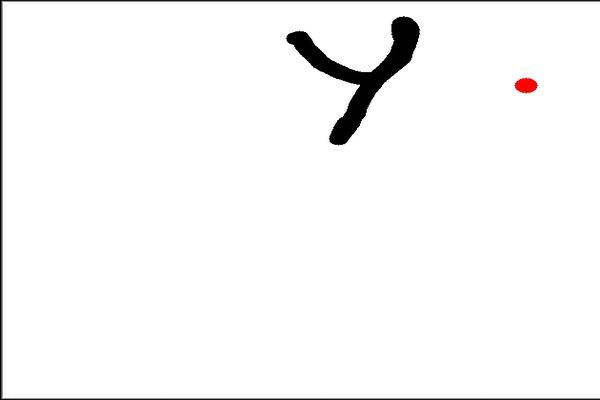Y: (276, 8, 483, 157)
